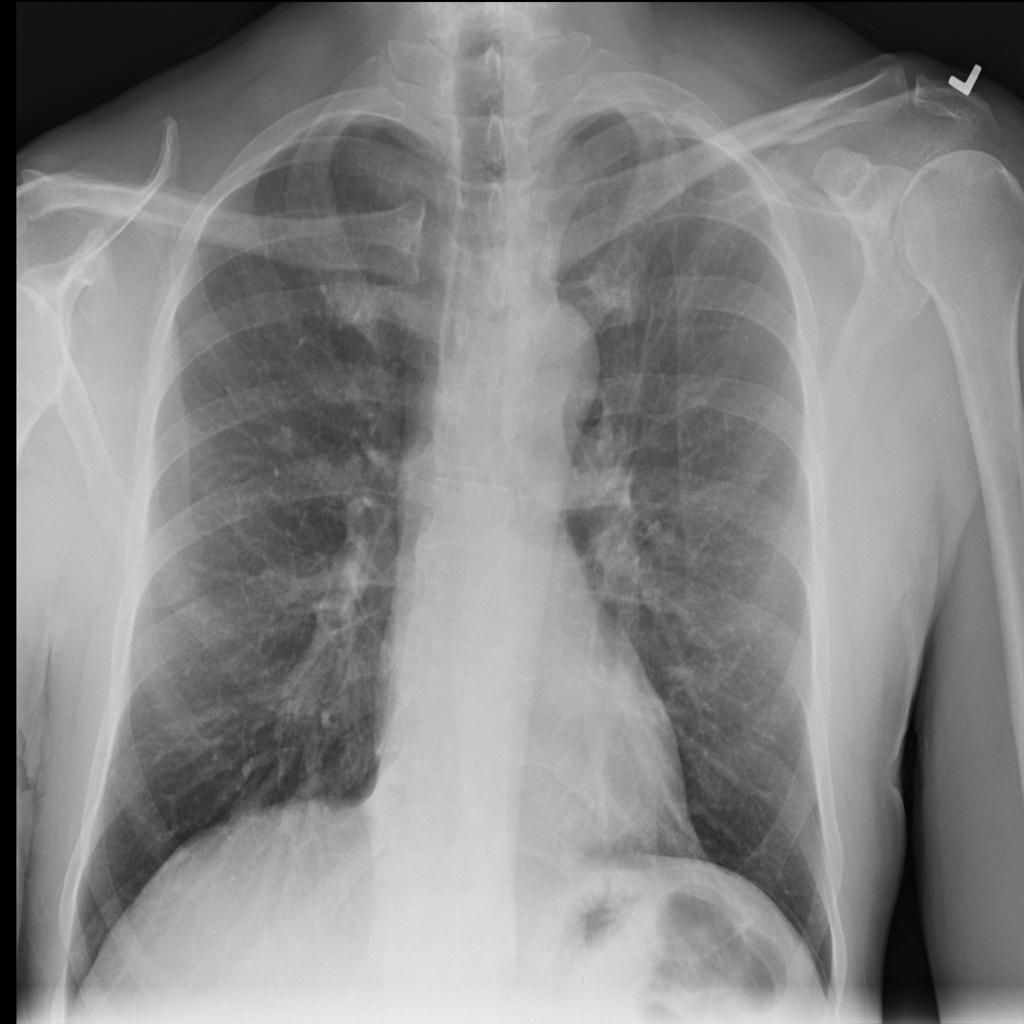nodule: (257, 411, 307, 465)
